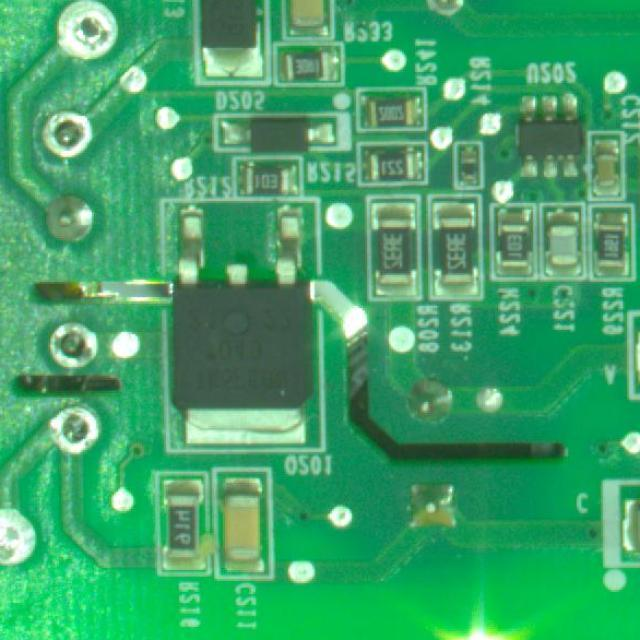Insufficient solder: (56, 0, 122, 58), (46, 320, 111, 374), (42, 109, 102, 161), (48, 412, 108, 461), (0, 510, 36, 569)
